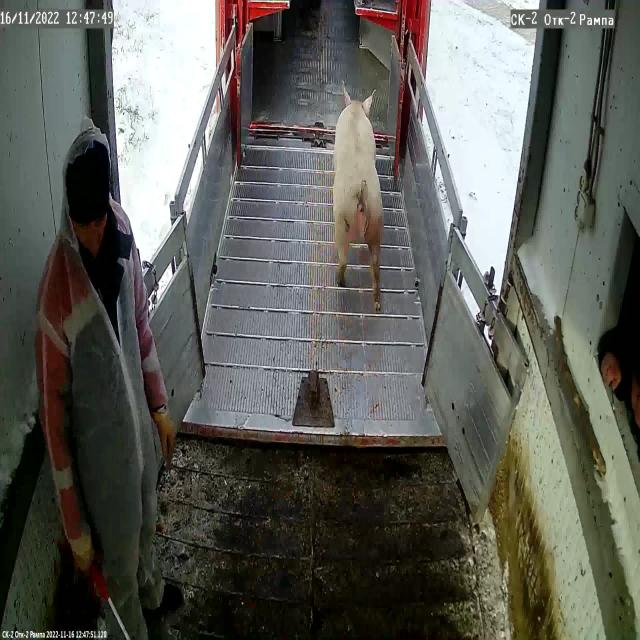pig: (333, 89, 384, 311)
